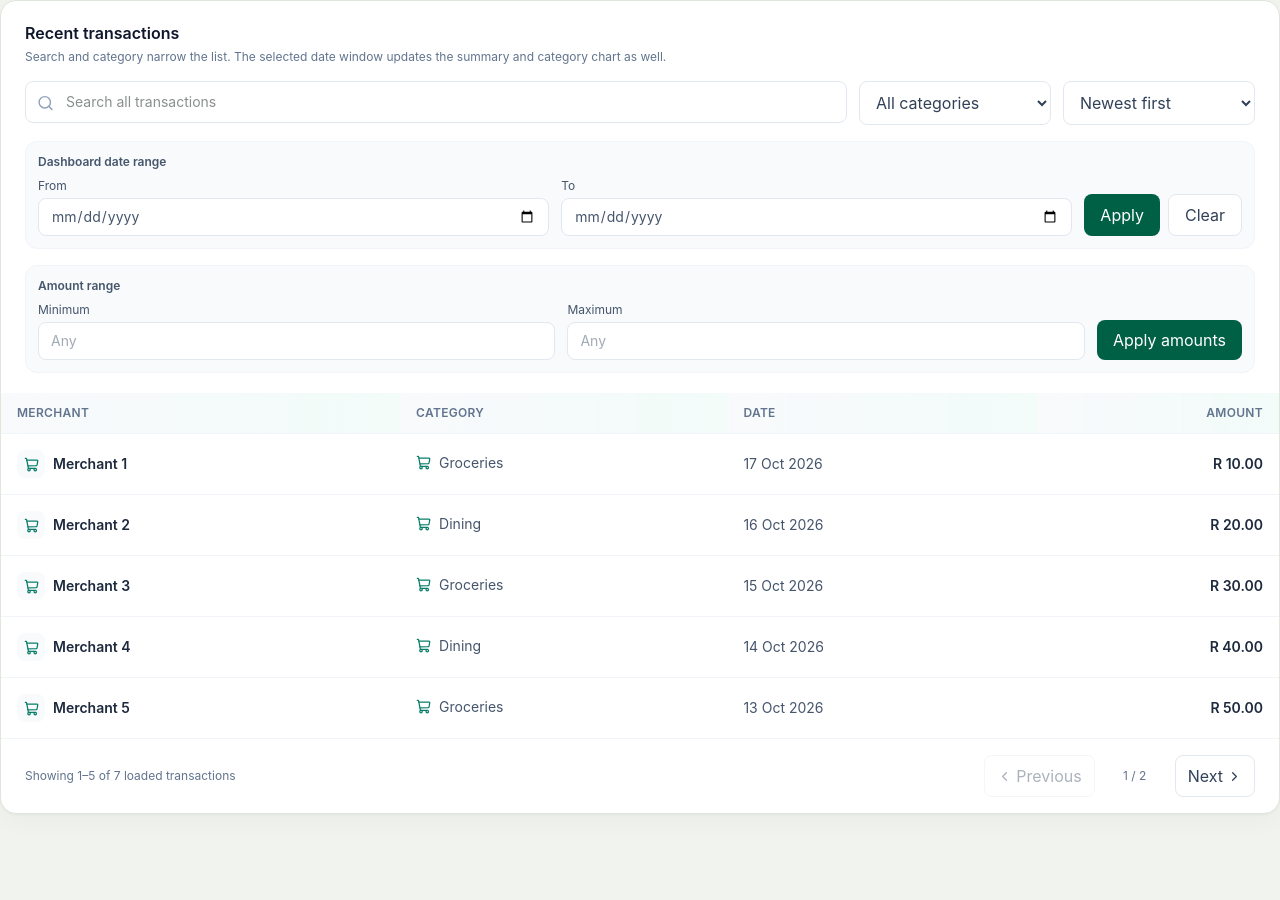
Test case: RecentTransactions › reveals transaction details on both mobile and desktop layouts
What coordinates should you click on to do the following:
click the button with aria-label "Merchant 1 transaction details"
I would click on:
 (72, 464)
Its box is [17,450,127,478].
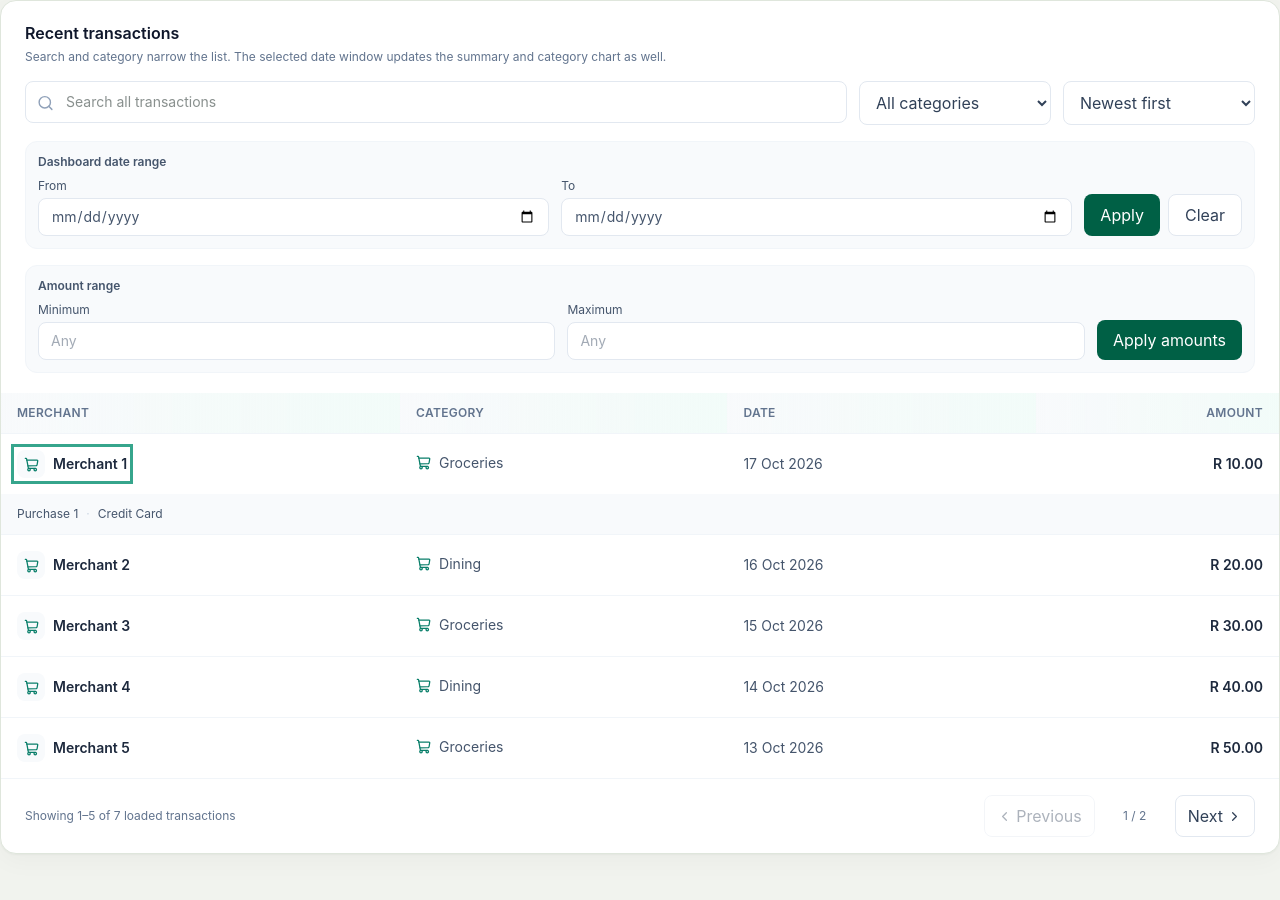
Expected: the text "Purchase 1" is shown, [17,506,78,521]
